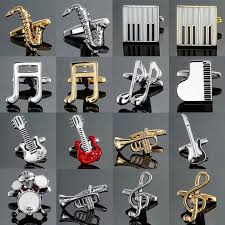Piano: (169, 55, 225, 118)
Saxophone: (59, 1, 106, 59), (1, 1, 51, 49)
